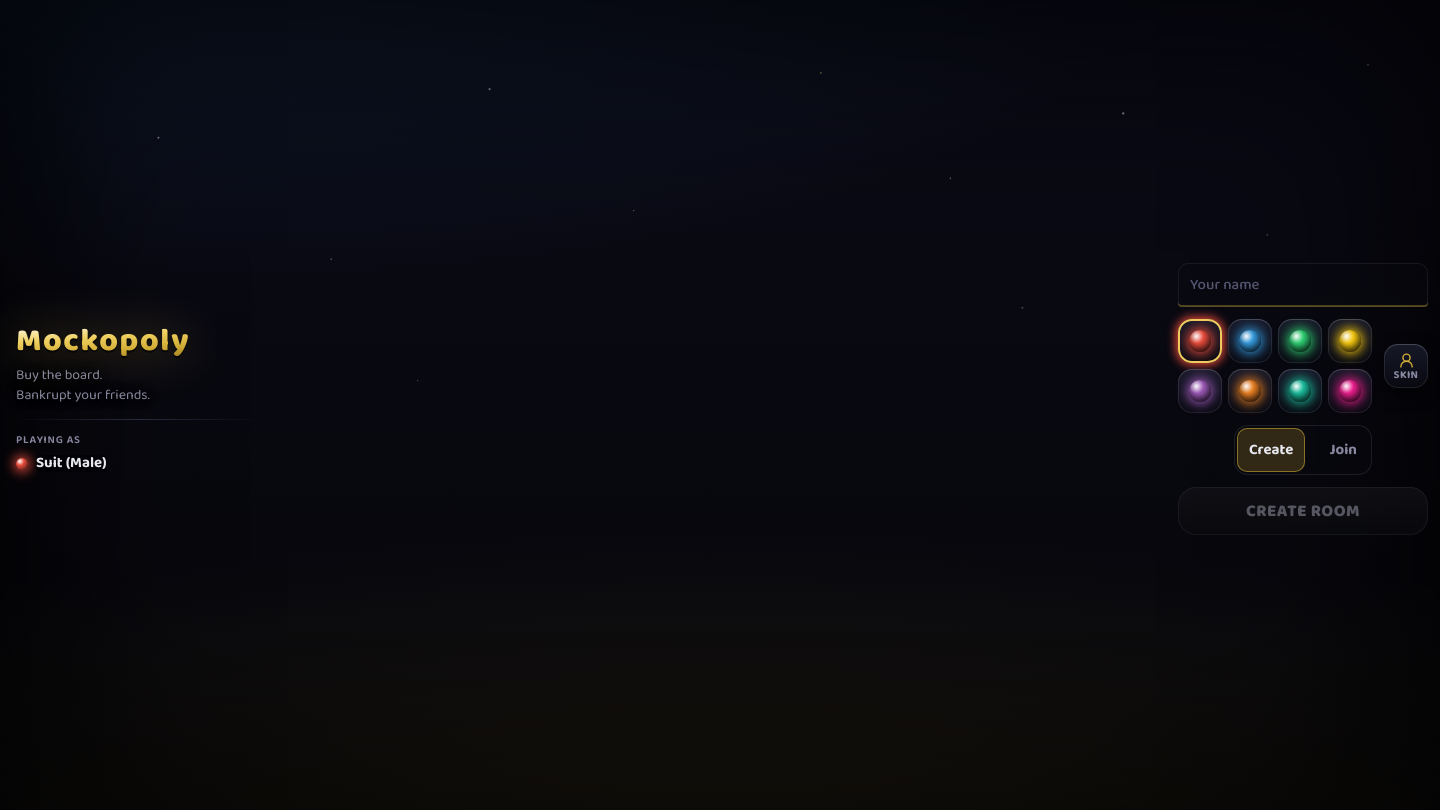
Test: MainMenu › CREATE is the default pane; JOIN swaps in the code input and its own CTA
Click the radio button labelled "Join" at [1343, 450], box [1317,428,1369,472]
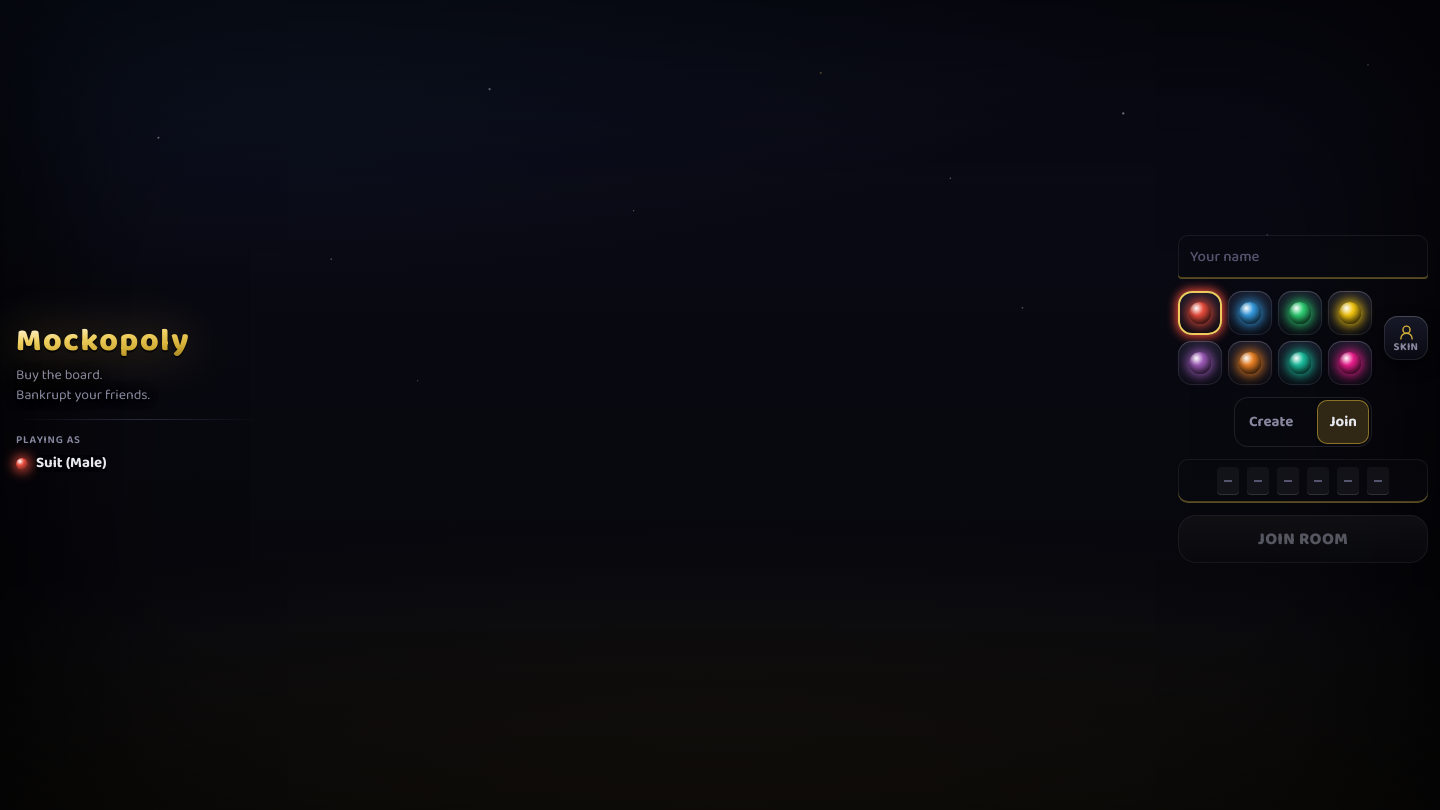
Check: the field named "room code" is shown, box [1178,459,1428,503]
Check: the button "Create room" is gone
Check: the button "Join room" is shown, box [1178,515,1428,563]
